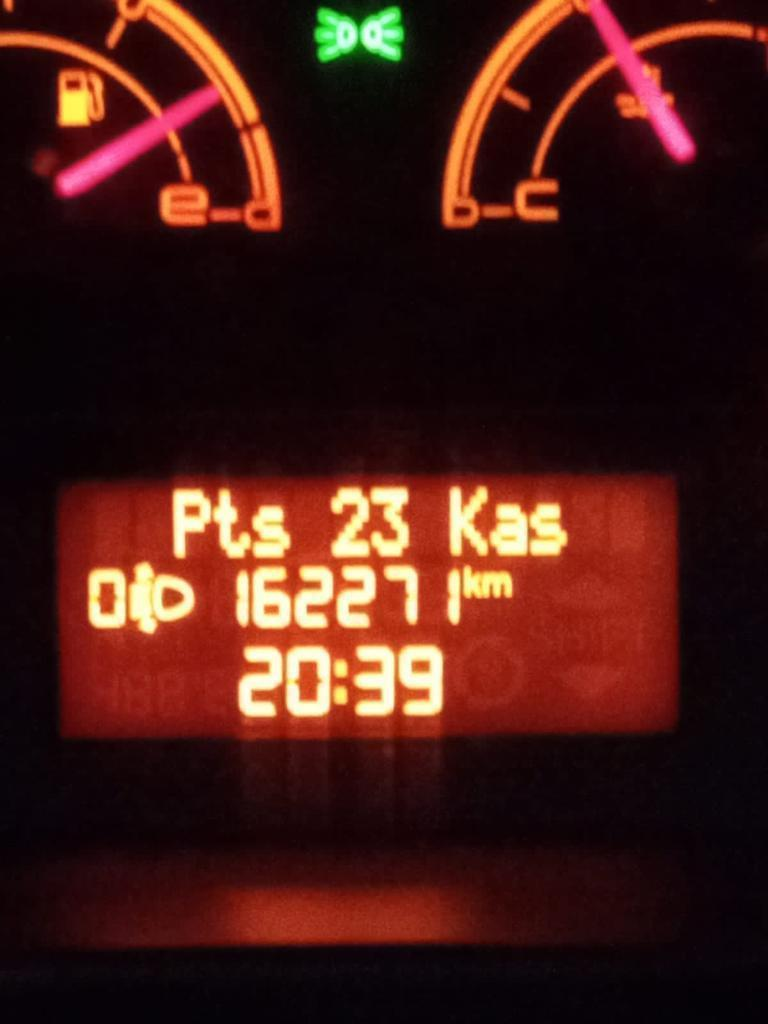0: (282, 643, 331, 719), (86, 567, 127, 630)
1: (233, 567, 251, 628), (444, 567, 461, 626)
2: (236, 644, 283, 719), (327, 485, 371, 558), (291, 563, 334, 631), (334, 564, 377, 629)
3: (352, 644, 396, 717), (370, 485, 410, 558)
6: (251, 564, 293, 630)
7: (382, 563, 420, 626)
9: (398, 642, 445, 716)
X: (445, 482, 490, 557), (170, 486, 213, 559), (213, 485, 251, 559), (251, 503, 293, 558), (528, 501, 569, 556), (490, 502, 528, 558), (330, 655, 351, 708), (480, 570, 514, 599), (460, 564, 481, 599)
odometer: (52, 468, 685, 744)
